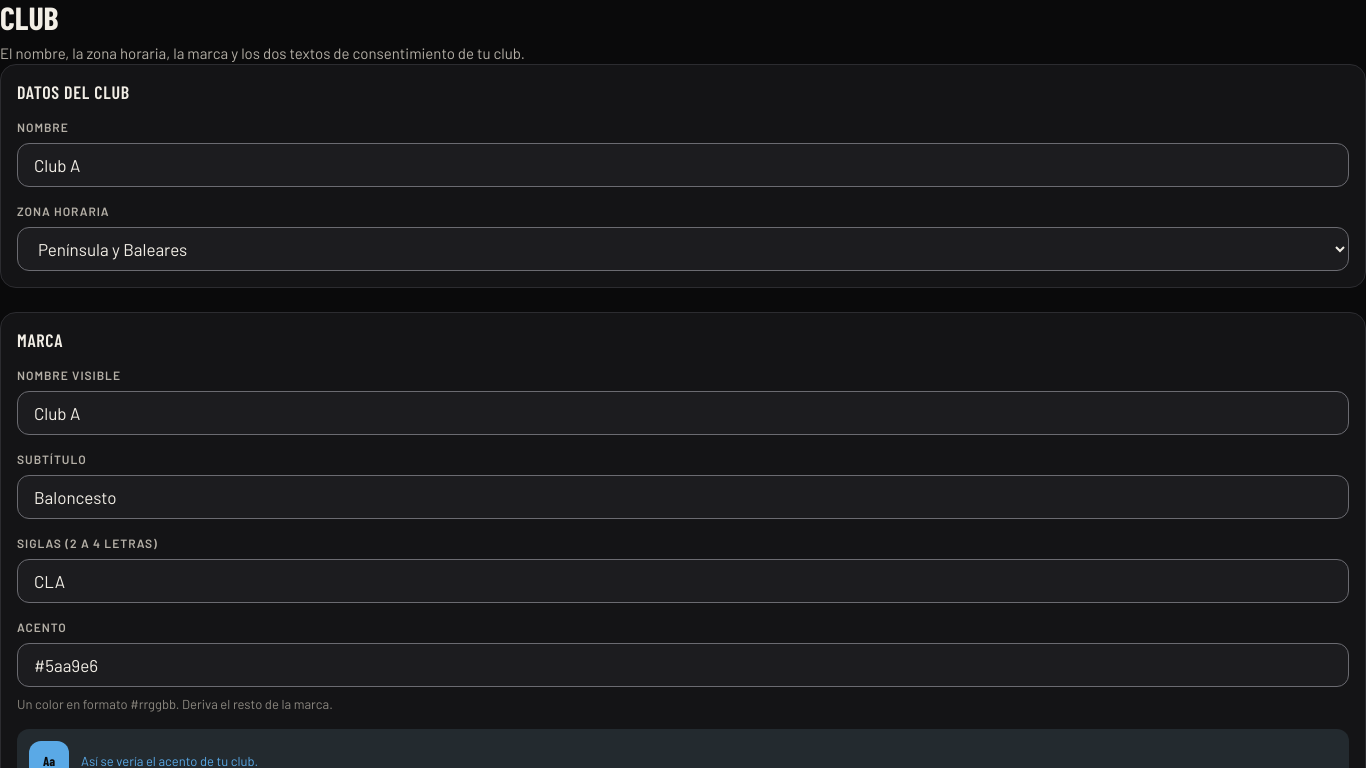
Test: ClubScreen › un acento que no contrasta avisa, sin bloquear el envío
Step 1. Replace the text in the field labelled "Acento" with "#1a3550" → (683, 665), box [17, 643, 1349, 687]
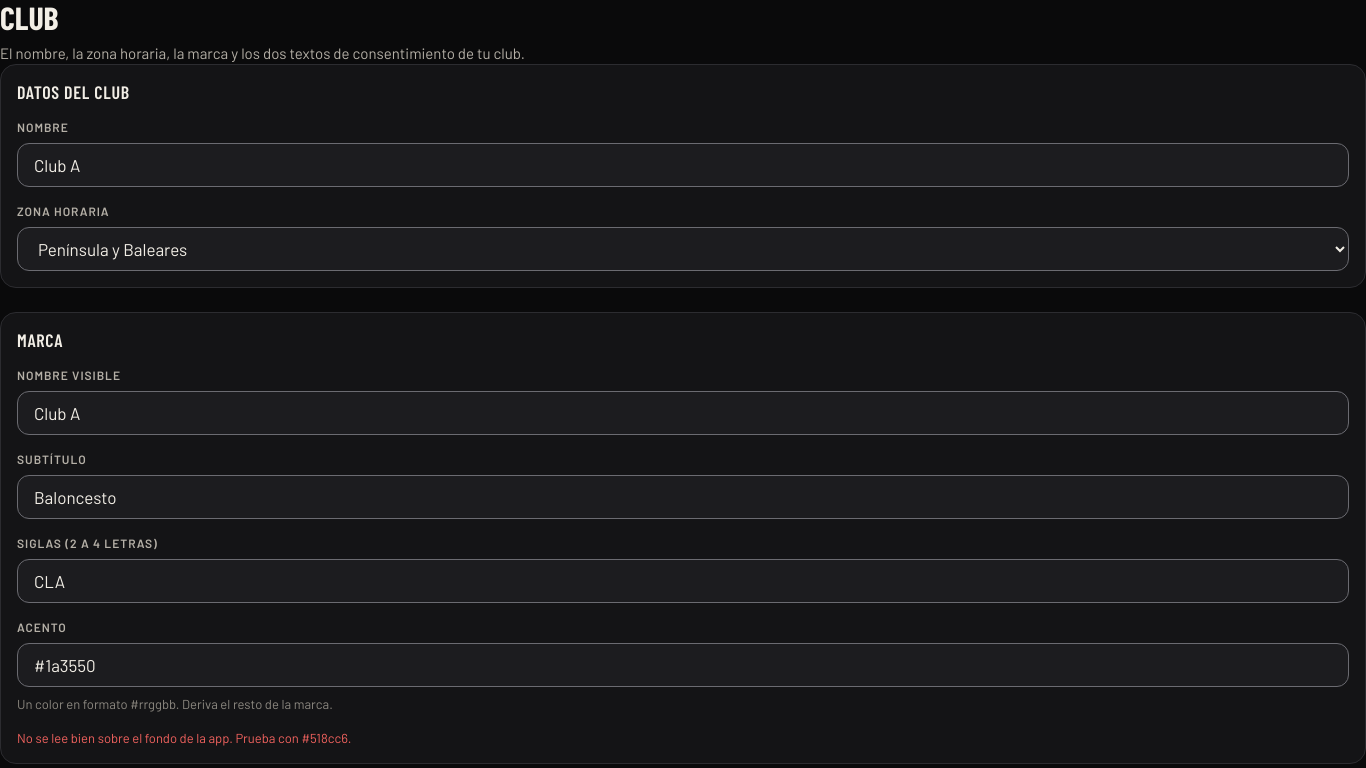
expect the text "No se lee bien sobre el fondo de la app. Prueba con #518cc6." is shown: met, box [17, 730, 352, 746]
